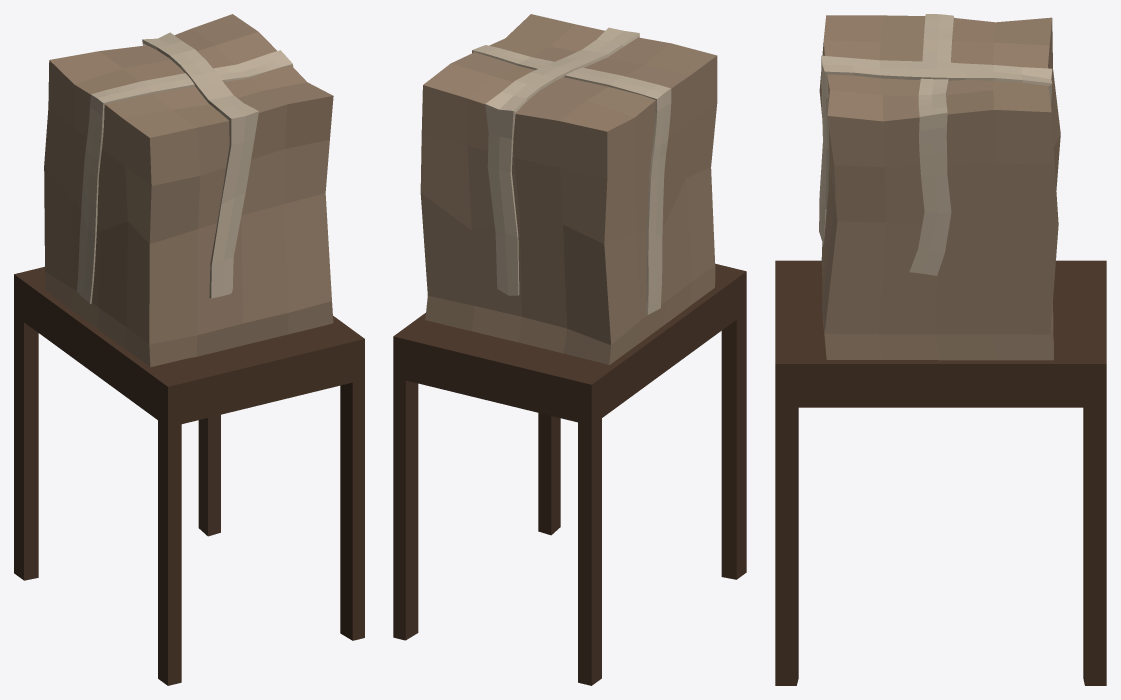
Rendered from boxCrouch.fbx.
3 renders of one model, left to right at view 1: azimuth 30°, elevation 25°; view 2: azimuth 150°, elevation 25°; view 3: azimuth 270°, elevation 25°, orthographic. The views are drawn at different scales.
Parts seen in each view (by area): view 1: Box, Stand, Tape, Tape.001; view 2: Box, Stand, Tape, Tape.001; view 3: Box, Stand, Tape.001, Tape.
Boxes of the visible parts, x1,y1,x2,y2 form: Box: (44, 14, 333, 367); Stand: (14, 266, 364, 685); Tape: (142, 32, 258, 298); Tape.001: (76, 50, 293, 303); Box: (420, 14, 717, 365); Stand: (393, 263, 746, 685); Tape: (485, 27, 639, 295); Tape.001: (472, 45, 671, 314); Box: (819, 15, 1060, 360); Stand: (775, 260, 1106, 685); Tape.001: (909, 14, 954, 275); Tape: (819, 55, 1052, 244).
Bounding box in the file's own units: 100 × 258 × 135.
